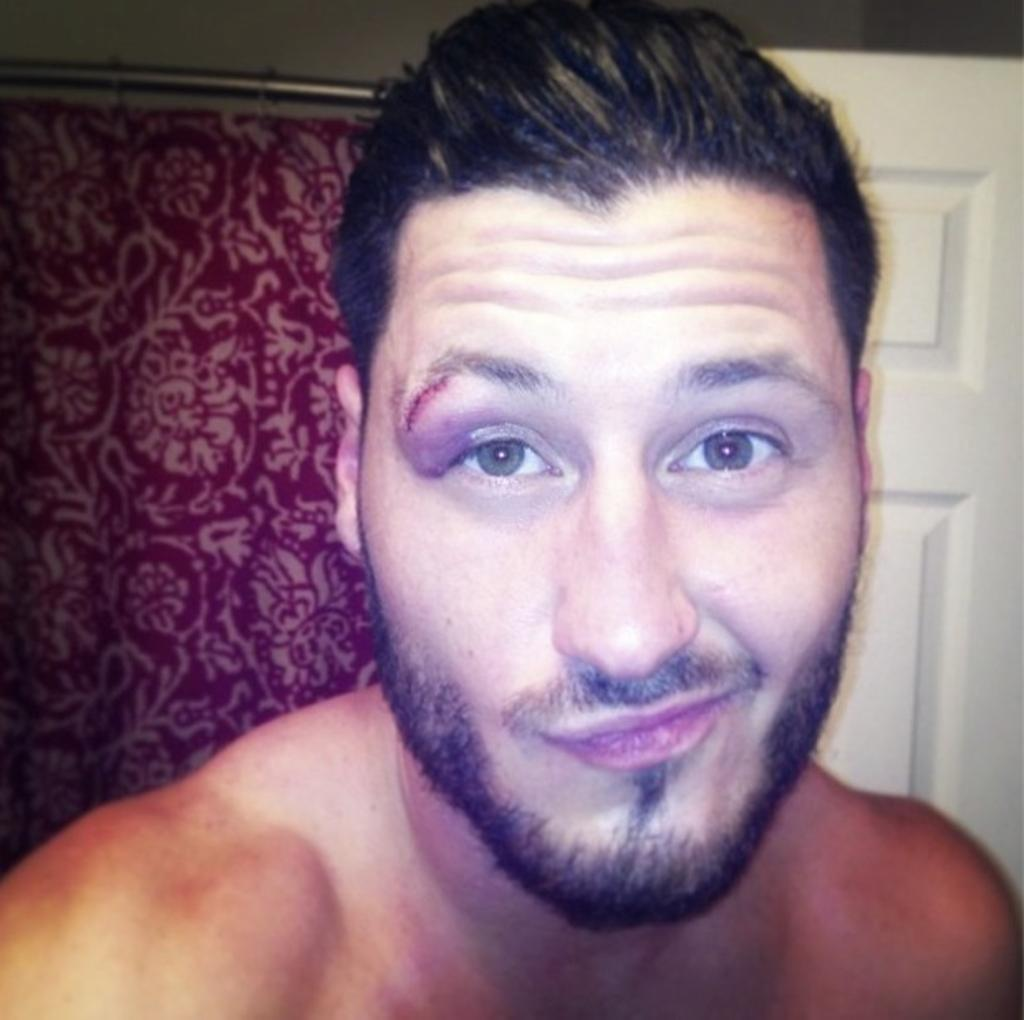face: (362, 184, 858, 924)
